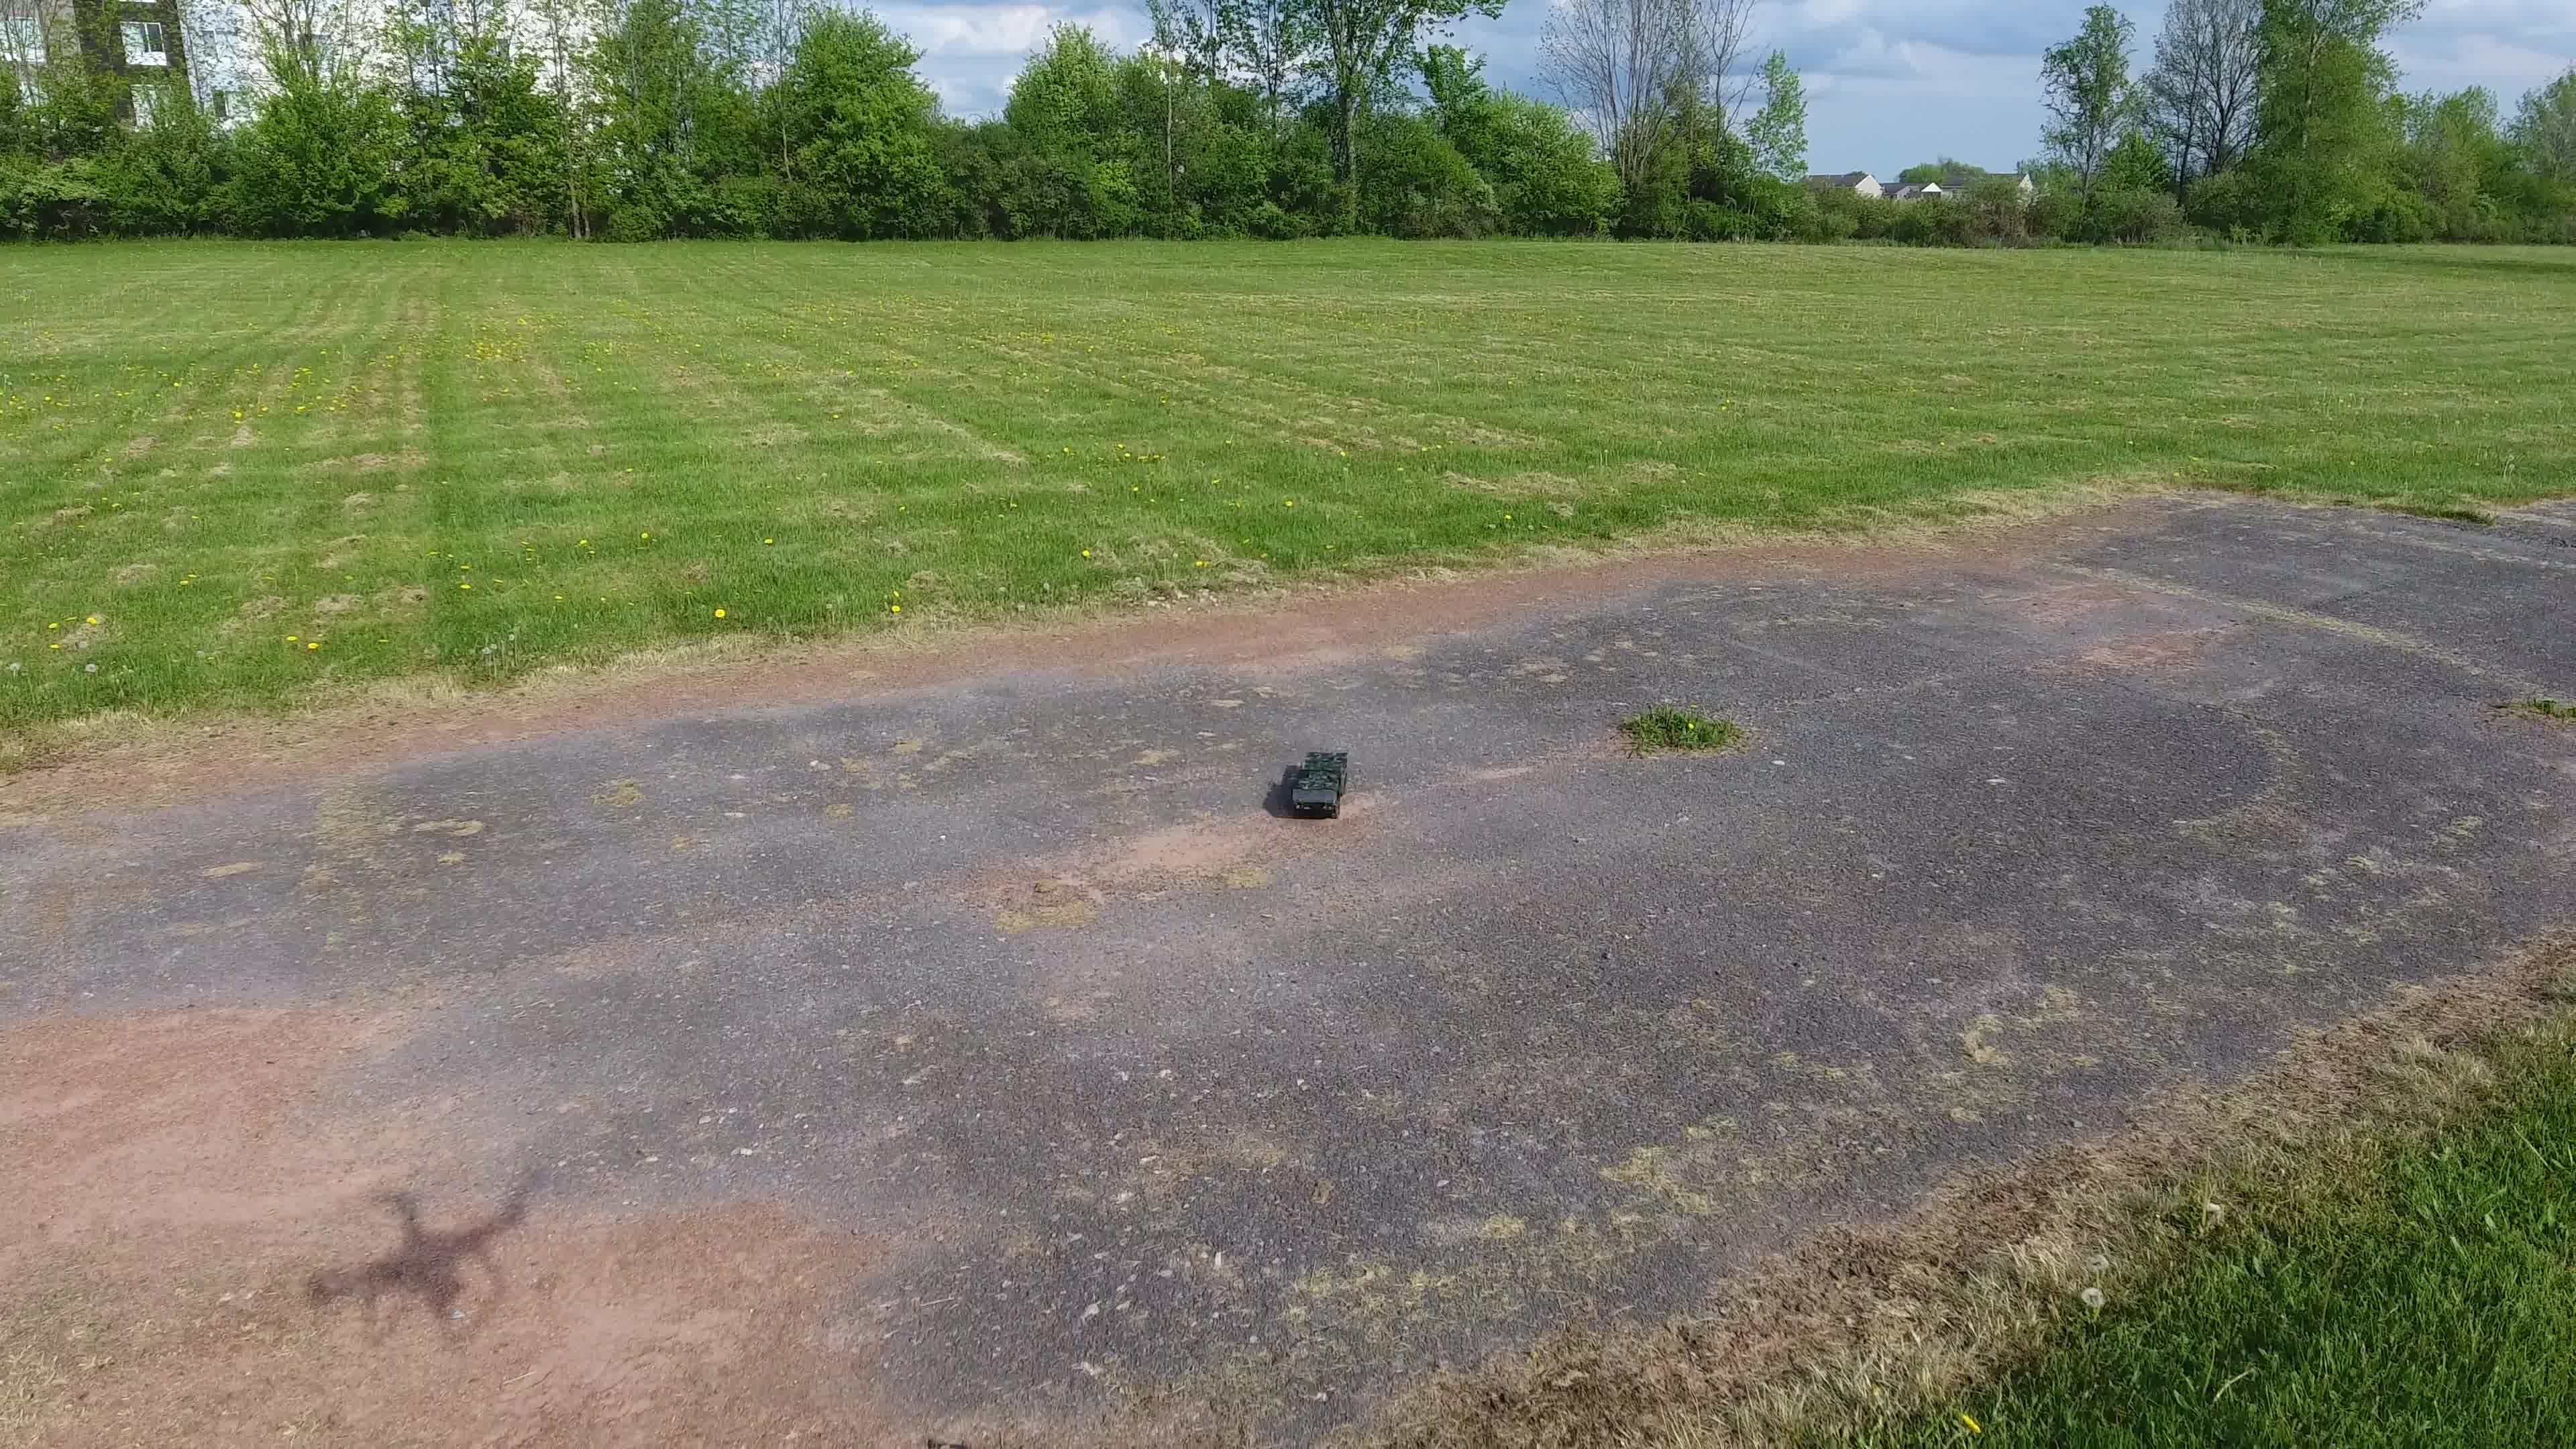transporter9: (1281, 747, 1350, 821)
